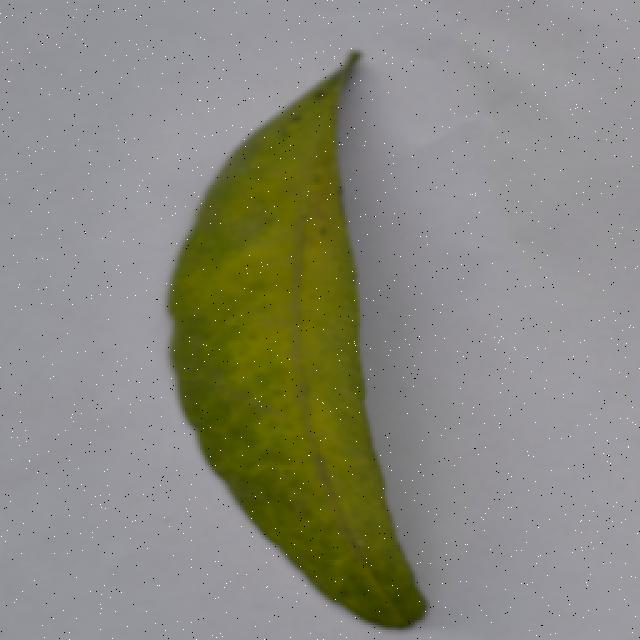blackspot: (138, 37, 466, 625)
